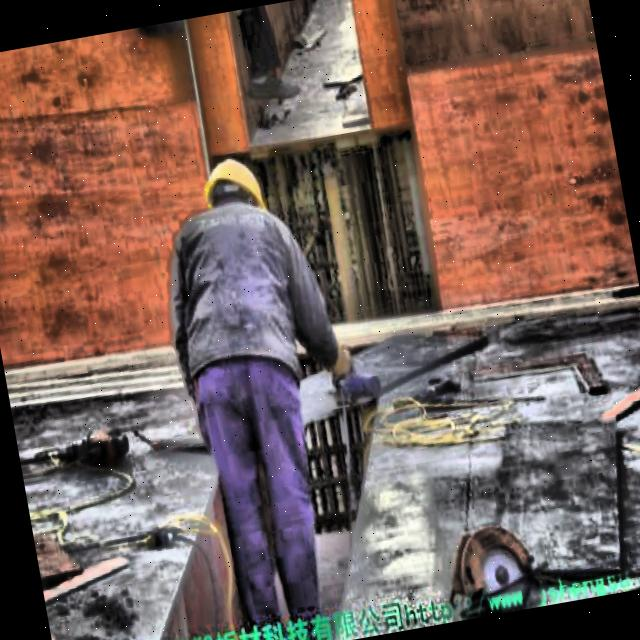helmet: (190, 151, 272, 229)
